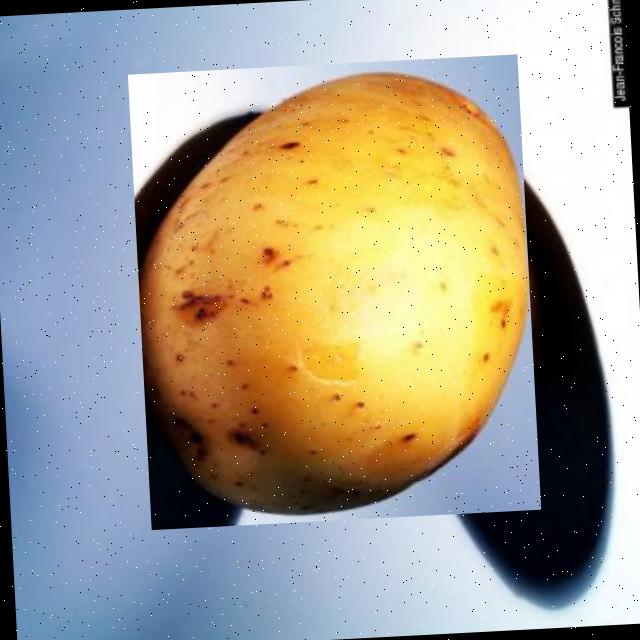Potato: (127, 54, 540, 530)
